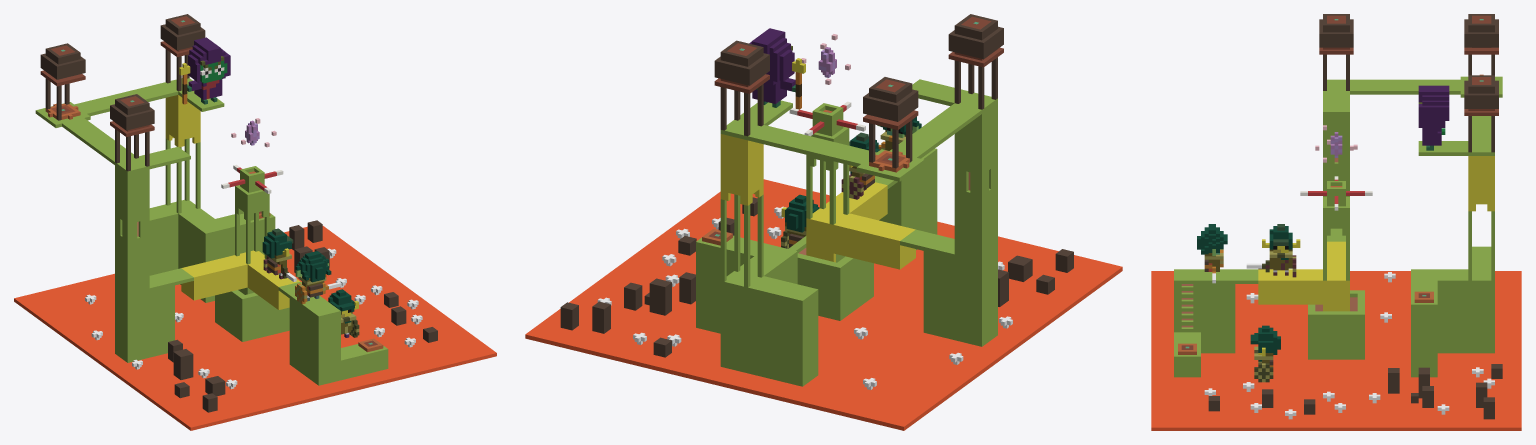
The picture shows the model from 3 angles, left to right: view 1: azimuth 30°, elevation 25°; view 2: azimuth 150°, elevation 25°; view 3: azimuth 270°, elevation 25°; orthographic projection. The views are drawn at different scales.
Bounding box in the file's own units: 9.7 × 7.9 × 9.7.
Materials: 1 (1 with a texture image).
